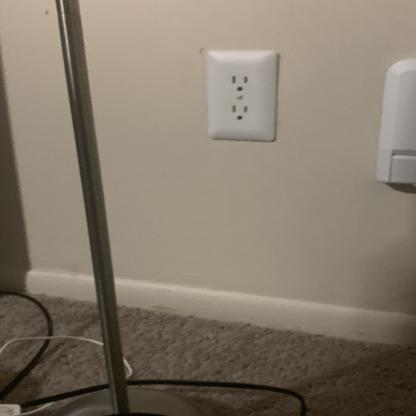OUTLET: (204, 50, 276, 140)
